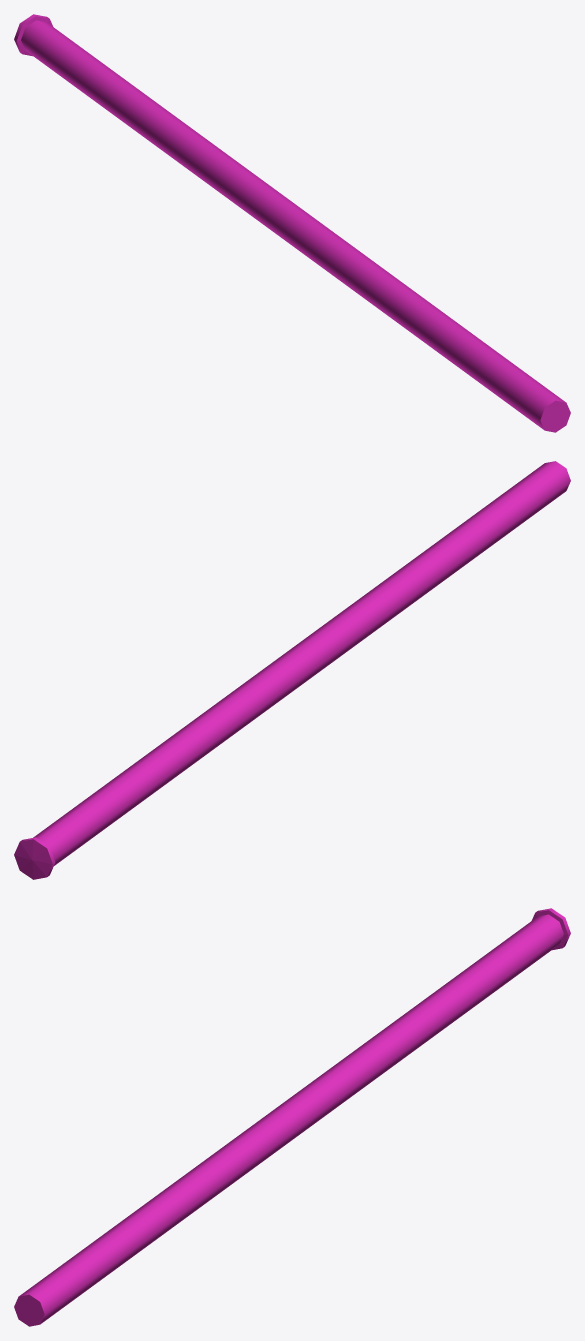
The model's file is Pipe_07_Lod1.fbx.
The picture shows the model from 3 angles, top to bottom: view 1: azimuth 30°, elevation 25°; view 2: azimuth 150°, elevation 25°; view 3: azimuth 330°, elevation 25°; orthographic projection.
Parts seen in each view (by area): view 1: Pipe_07_Lod1; view 2: Pipe_07_Lod1; view 3: Pipe_07_Lod1.
Part boxes in pixels (box(x1,y1,x2,y2)): Pipe_07_Lod1: box(14, 14, 570, 432); Pipe_07_Lod1: box(14, 461, 570, 879); Pipe_07_Lod1: box(14, 908, 570, 1326).
Bounding box in the file's own units: 313 × 313 × 7290.
